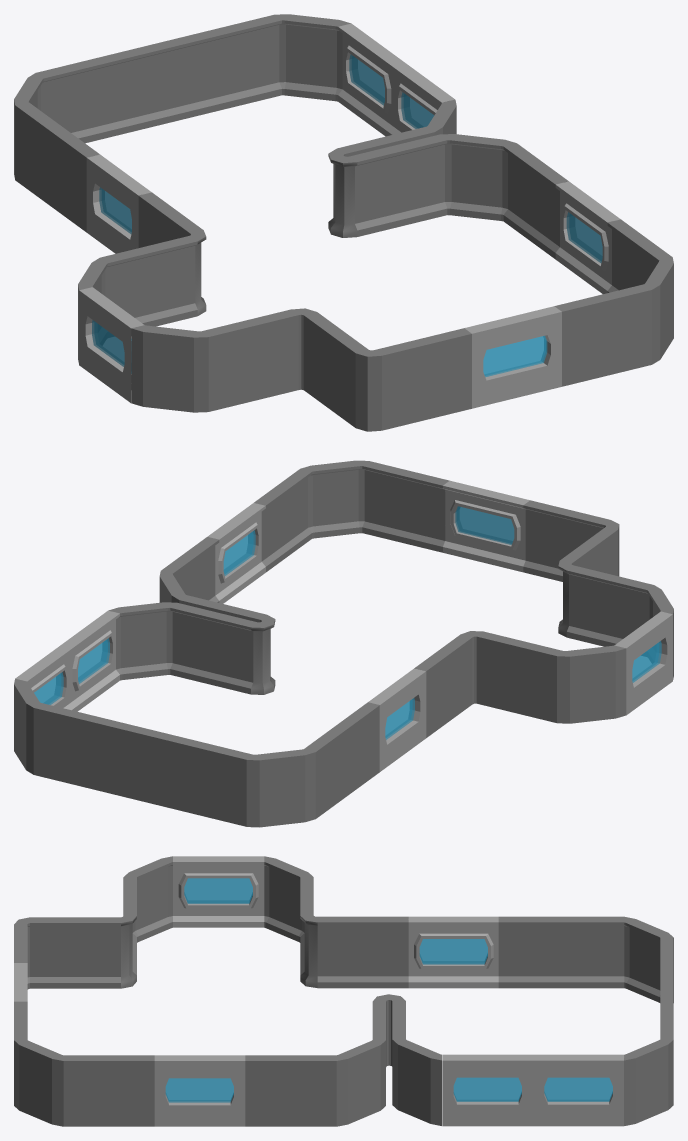
File: ShipWallLink.fbx
The picture shows the model from 3 angles, top to bottom: view 1: azimuth 30°, elevation 25°; view 2: azimuth 150°, elevation 25°; view 3: azimuth 270°, elevation 25°; orthographic projection. The views are drawn at different scales.
Parts seen in each view (by area): view 1: Wall_Window (×6), Wall6, Wall16, Wall17, Wall10, Wall4, Wall2, Wall8, r2Wall2, Window (×6), r2Wall6, r2Wall4 (+16 smaller); view 2: Wall_Window (×6), Wall16, Wall12, Wall2, Wall8, Wall17, Wall6, r2Wall3, r2Wall7, Window (×6), r2Wall1, r2Wall5 (+14 smaller); view 3: Wall_Window (×6), Window (×5), Wall11, Wall20, Wall1, Wall9, Wall5, r2Wall6, r2Wall5, r2Wall4, r2Wall1, r2Wall7 (+13 smaller).
Part boxes in pixels (bbox=[...]): Wall_Window (×6): bbox=[79, 23, 620, 408]; Wall6: bbox=[201, 309, 298, 411]; Wall16: bbox=[184, 15, 281, 117]; Wall17: bbox=[94, 37, 191, 138]; Wall10: bbox=[350, 134, 447, 236]; Wall4: bbox=[374, 328, 471, 430]; Wall2: bbox=[554, 284, 651, 386]; Wall8: bbox=[100, 235, 197, 326]; r2Wall2: bbox=[131, 325, 208, 412]; Window (×6): bbox=[92, 54, 602, 376]; r2Wall6: bbox=[274, 14, 350, 101]; r2Wall4: bbox=[440, 134, 516, 221]; Wall_Window (×6): bbox=[15, 480, 672, 771]; Wall16: bbox=[33, 703, 120, 794]; Wall12: bbox=[170, 602, 257, 694]; Wall2: bbox=[362, 461, 449, 552]; Wall8: bbox=[476, 631, 563, 722]; Wall17: bbox=[114, 722, 200, 813]; Wall6: bbox=[566, 565, 653, 646]; r2Wall3: bbox=[557, 645, 626, 723]; r2Wall7: bbox=[246, 749, 315, 827]; Window (×6): bbox=[34, 506, 661, 739]; r2Wall1: bbox=[300, 460, 368, 538]; r2Wall5: bbox=[108, 602, 176, 680]; Wall_Window (×6): bbox=[14, 856, 623, 1126]; Window (×5): bbox=[165, 878, 612, 1102]; Wall11: bbox=[317, 916, 408, 988]; Wall20: bbox=[498, 916, 589, 988]; Wall1: bbox=[63, 1055, 154, 1126]; Wall9: bbox=[245, 1055, 336, 1126]; Wall5: bbox=[30, 917, 120, 988]; r2Wall6: bbox=[624, 1039, 673, 1125]; r2Wall5: bbox=[392, 1039, 441, 1125]; r2Wall4: bbox=[336, 1040, 385, 1126]; r2Wall1: bbox=[14, 1040, 63, 1126]; r2Wall7: bbox=[624, 917, 673, 1002].
Size of the model in its own units: 107 by 16 by 146.
